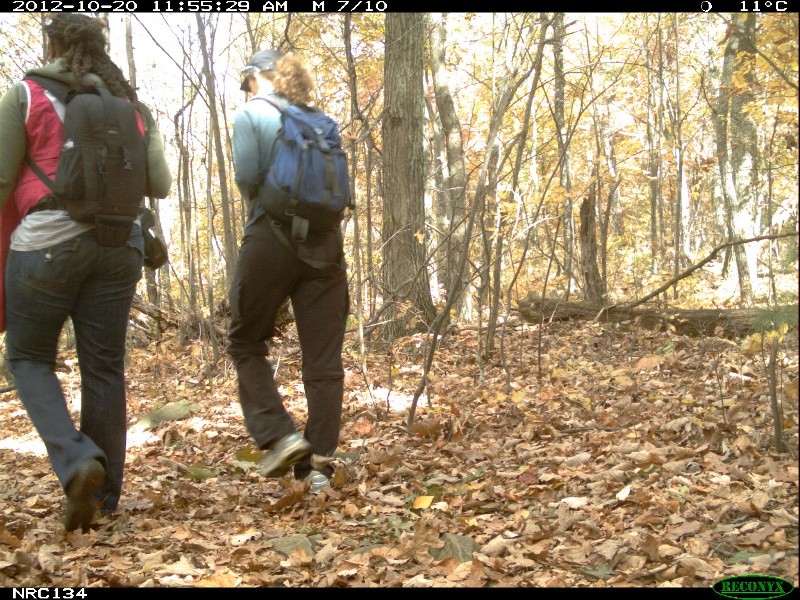human: (3, 22, 165, 534), (215, 46, 364, 507)
human face: (244, 73, 268, 98)
human legs: (3, 212, 162, 534), (223, 213, 365, 498)
